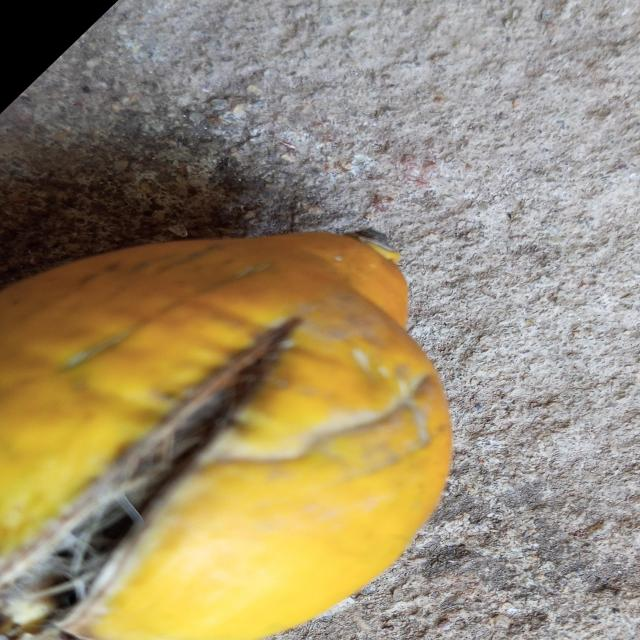damaged: (0, 232, 455, 640)
